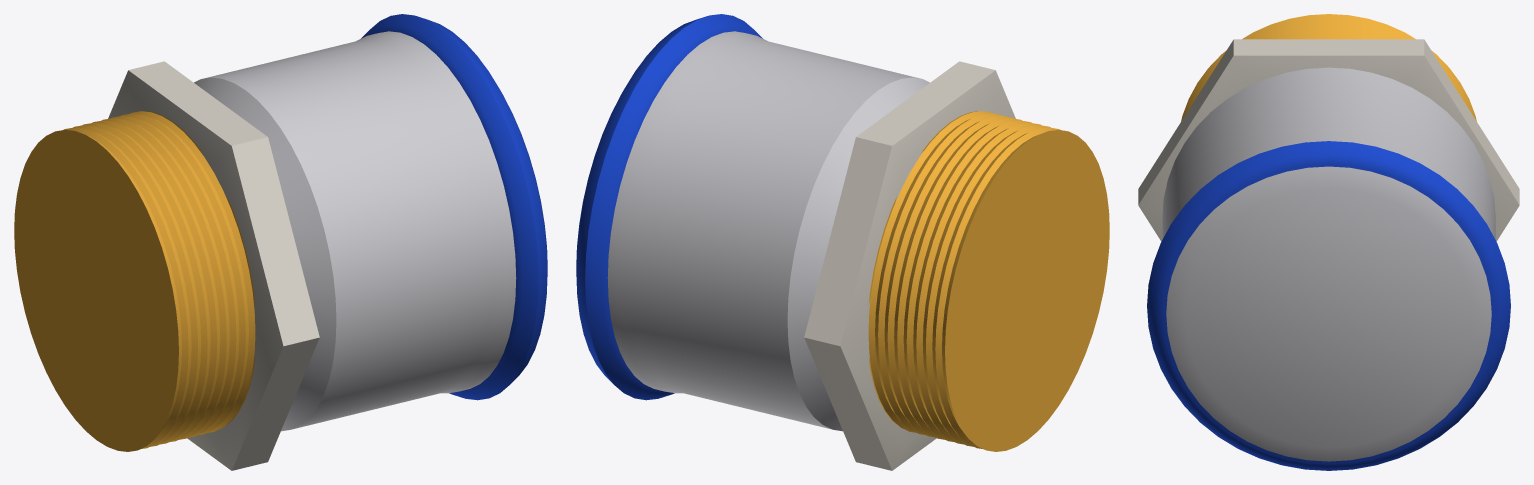
The model's file is fitting_adp_42x112_M.glb.
3 renders of one model, left to right at view 1: azimuth 30°, elevation 25°; view 2: azimuth 150°, elevation 25°; view 3: azimuth 270°, elevation 25°, orthographic. The views are drawn at different scales.
Parts seen in each view (by area): view 1: раструб, резьба НР, шестигранник переходника, кольцо пресс; view 2: раструб, резьба НР, шестигранник переходника, кольцо пресс; view 3: раструб, кольцо пресс, шестигранник переходника, резьба НР.
Boxes of the visible parts, x1,y1,x2,y2 form: раструб: (194,31,516,431); резьба НР: (14,111,255,451); шестигранник переходника: (108,61,319,470); кольцо пресс: (361,14,547,400); раструб: (607,31,929,431); резьба НР: (868,111,1109,451); шестигранник переходника: (804,61,1015,470); кольцо пресс: (576,14,762,400); раструб: (1162,67,1495,461); кольцо пресс: (1147,141,1510,470); шестигранник переходника: (1138,39,1519,241); резьба НР: (1181,14,1476,121).
Size of the model in its own units: 0.062 by 0.0573 by 0.06.
